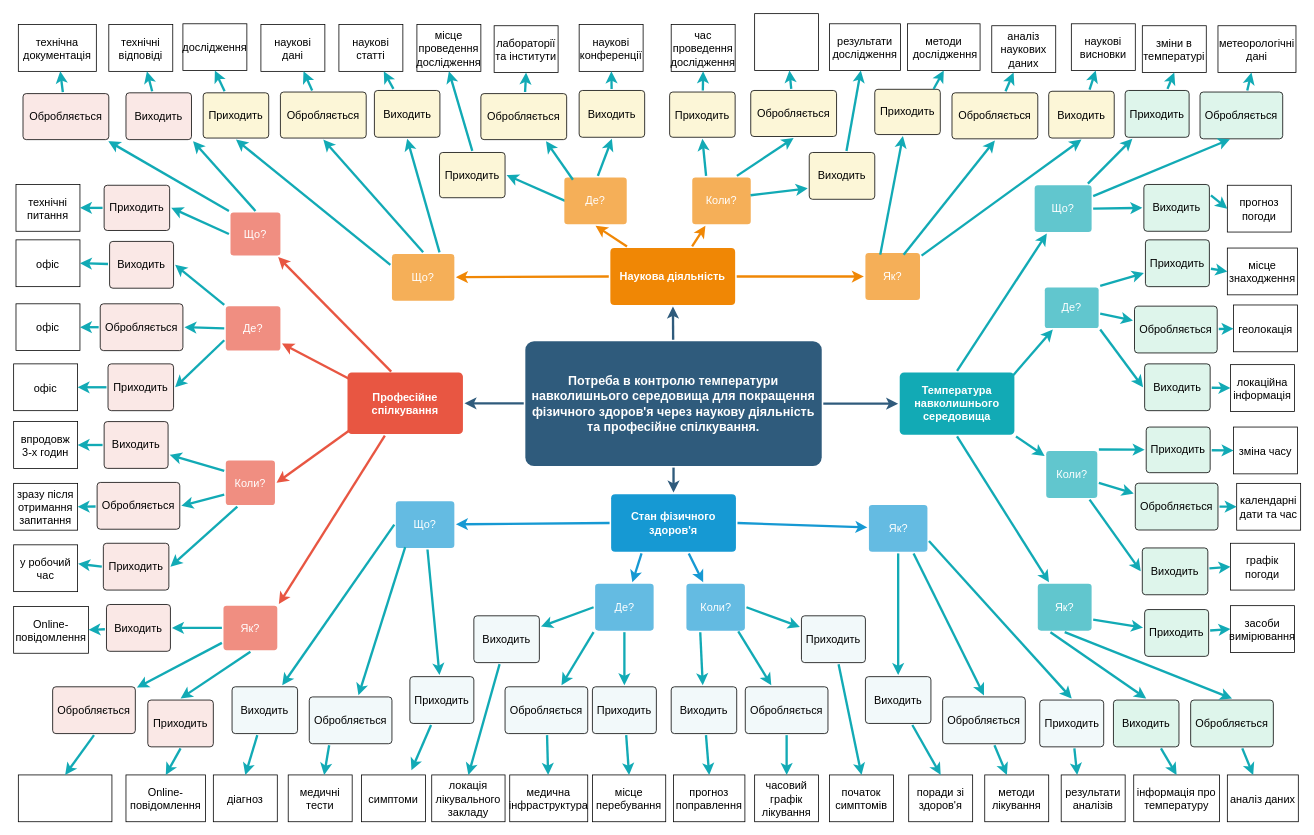
Some shapes in this 1314 by 835 pixel diagram are drawn without their labels. Each missing label, with the centre of its shape:
"календарні події наукової спільноти" belongs at (786,42).
"співробітники / пошукові системи" belongs at (65,798).
